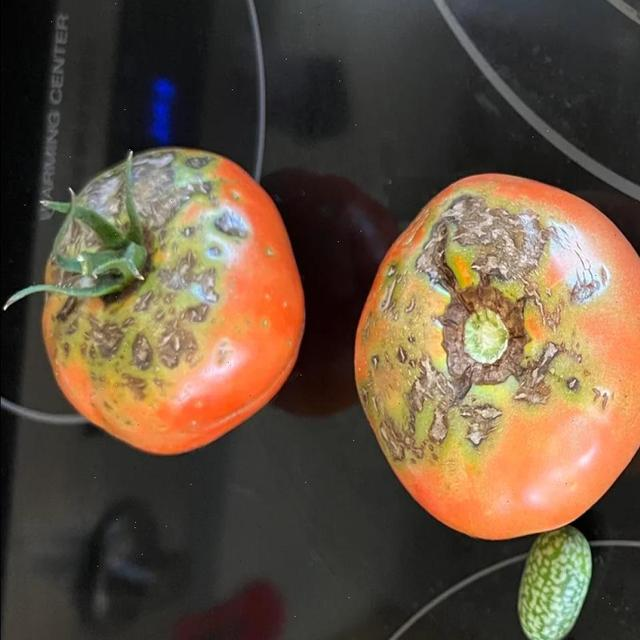Spotted wilt Virus Fruit: (113, 199, 330, 244)
